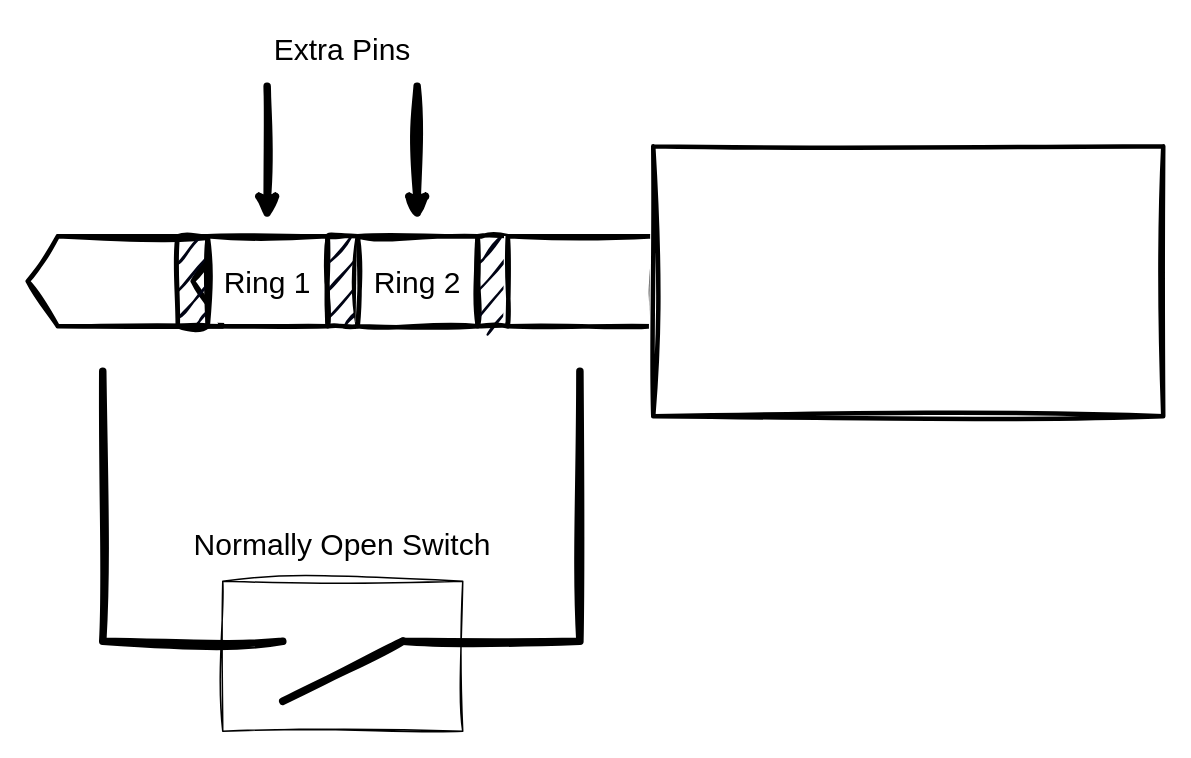
This 1191x758 diagram has some shape labels left out. Each missing label, with the box of its shape:
Shield: (505, 233, 655, 328)
Tip: (25, 233, 224, 328)
